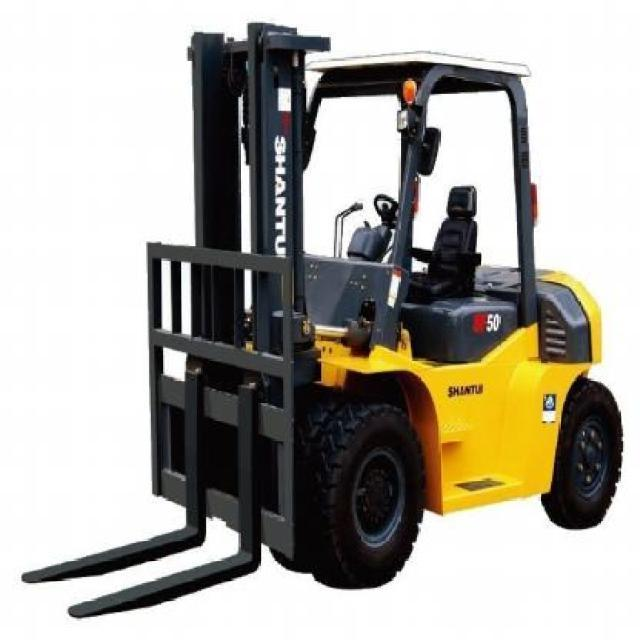forklift: (162, 32, 624, 580)
